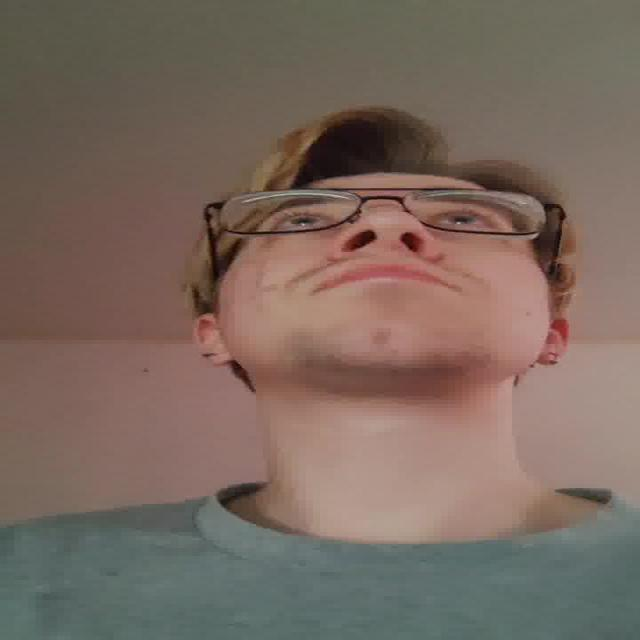earlobe: (193, 313, 239, 366), (537, 314, 576, 366)
